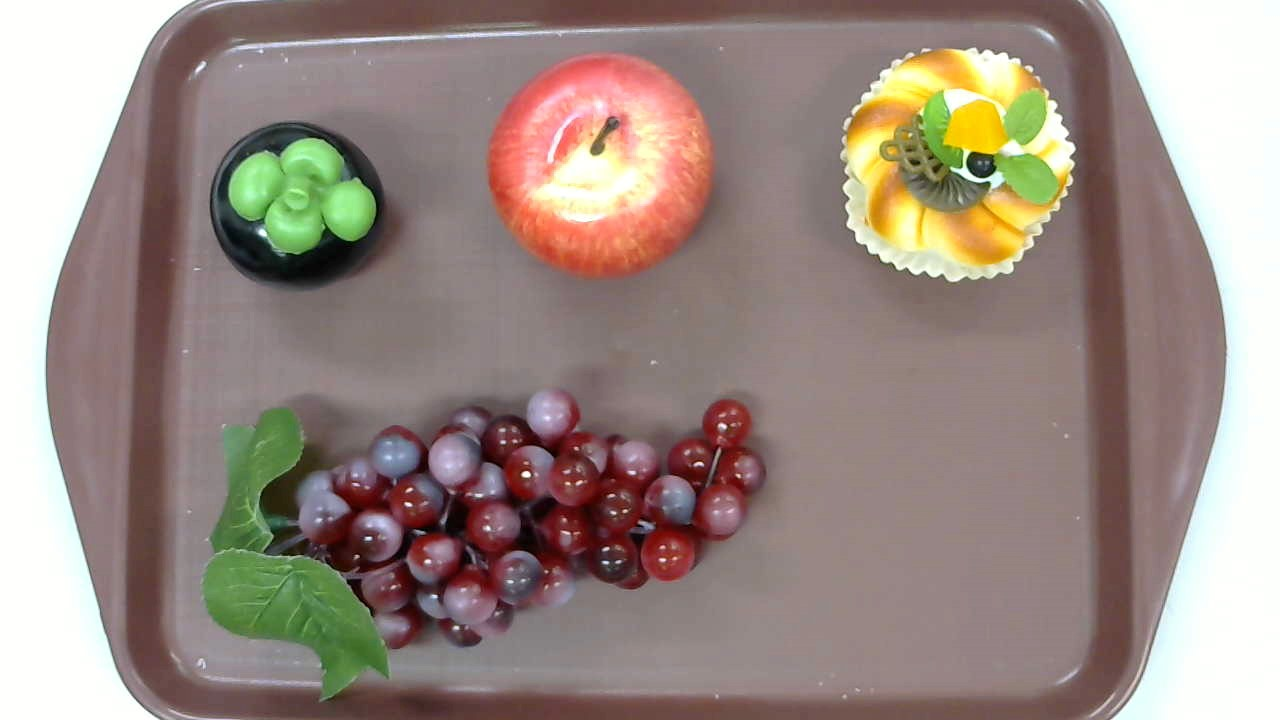fruit tart: (839, 47, 1075, 284)
grape: (202, 387, 766, 703)
mangosteen: (209, 122, 385, 291)
red apple: (486, 51, 718, 282)
